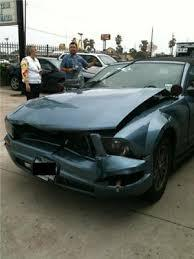bonnet-dent: (22, 85, 161, 125)
front-bumper-dent: (24, 149, 127, 193)
